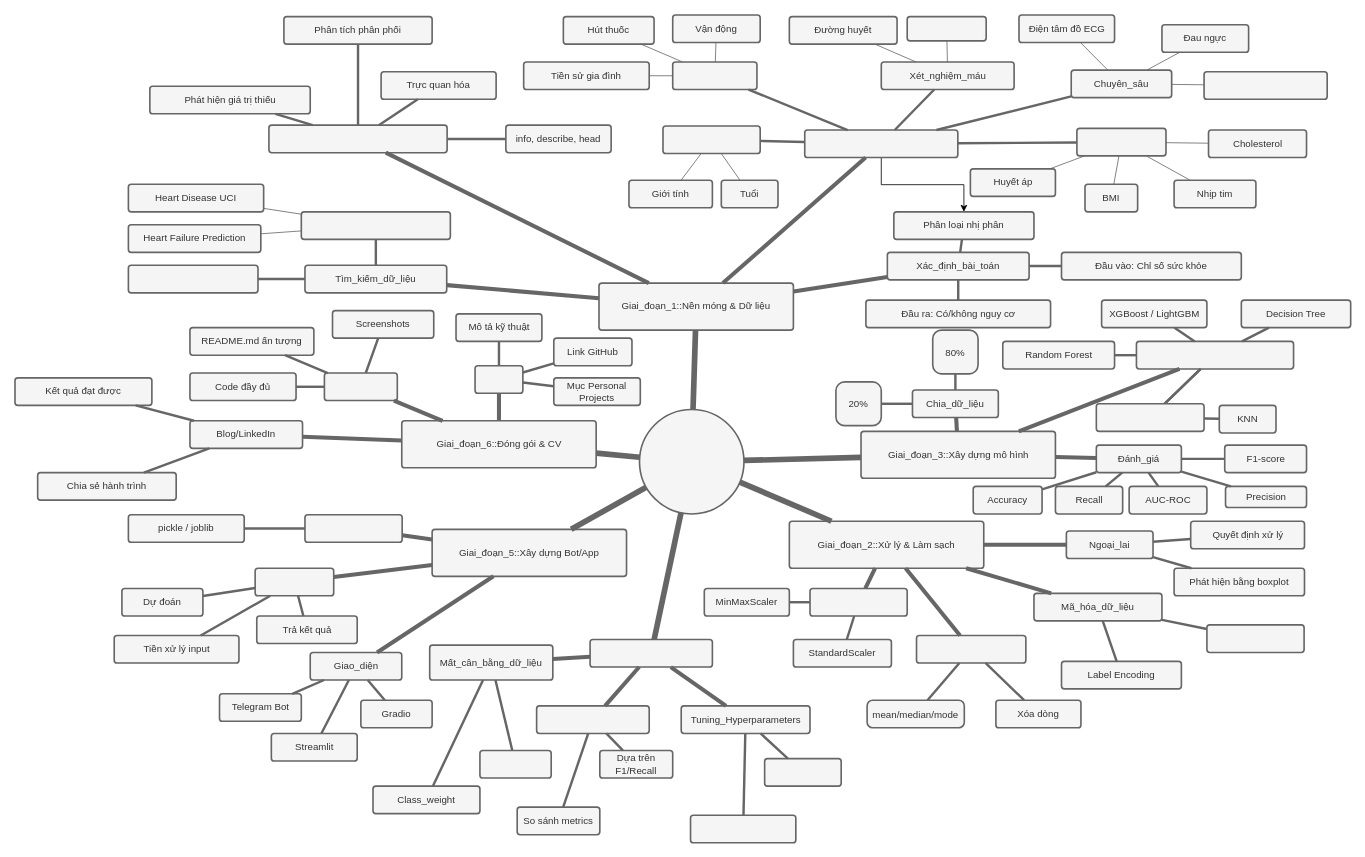
Image size: 1365x857. Some labels were removed from this diagram. Here are the shapes that lost their labels. From the top down, the box of each, then its label:
(906, 15, 987, 41): Enzyme tim
(671, 61, 757, 90): Lối_sống
(1203, 70, 1328, 100): Số mạch bị hẹp
(268, 124, 448, 153): EDA - Khám_phá_dữ_liệu
(662, 125, 761, 154): Nhân_khẩu
(804, 129, 958, 158): Các_cột_quan_trọng
(1076, 127, 1166, 156): Lâm_sàng
(300, 211, 451, 240): Bộ dữ liệu phổ biến
(127, 264, 258, 293): Nguồn: Kaggle, UCI
(1135, 340, 1294, 369): Mô_hình_thử_nghiệm
(323, 372, 398, 401): GitHub
(474, 364, 523, 394): CV
(1095, 403, 1204, 432): Logistic Regression
(638, 408, 744, 514): Bot dự đoán Bệnh tim mạch
(304, 514, 403, 543): Lưu_model
(254, 567, 334, 596): Kết_nối
(809, 587, 908, 616): Chuẩn_hóa
(589, 638, 713, 667): Giai_đoạn_4::Tối ưu hóa
(915, 634, 1026, 663): Giá_trị_thiếu
(1206, 624, 1305, 653): One-Hot Encoding
(535, 705, 650, 734): Chọn_model_cuối
(479, 749, 552, 778): SMOTE
(763, 757, 842, 787): GridSearchCV
(689, 814, 796, 843): RandomizedSearchCV
